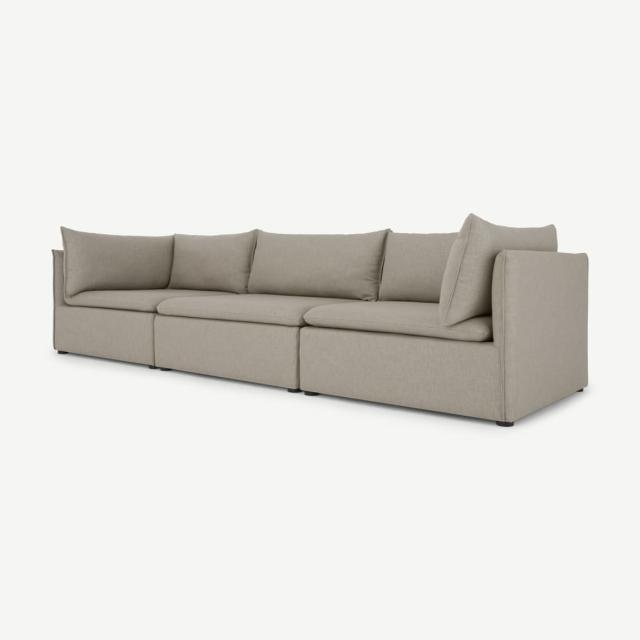back_cushion: (61, 215, 557, 326)
left_arm: (492, 250, 588, 421)
legs: (288, 388, 320, 396), (147, 365, 173, 371), (496, 421, 513, 426), (56, 350, 69, 354), (579, 389, 583, 392)
right_arm: (51, 250, 69, 311), (54, 320, 56, 346)
seat_cushion: (54, 306, 501, 420)
stallion-sofa: (0, 0, 639, 639)
